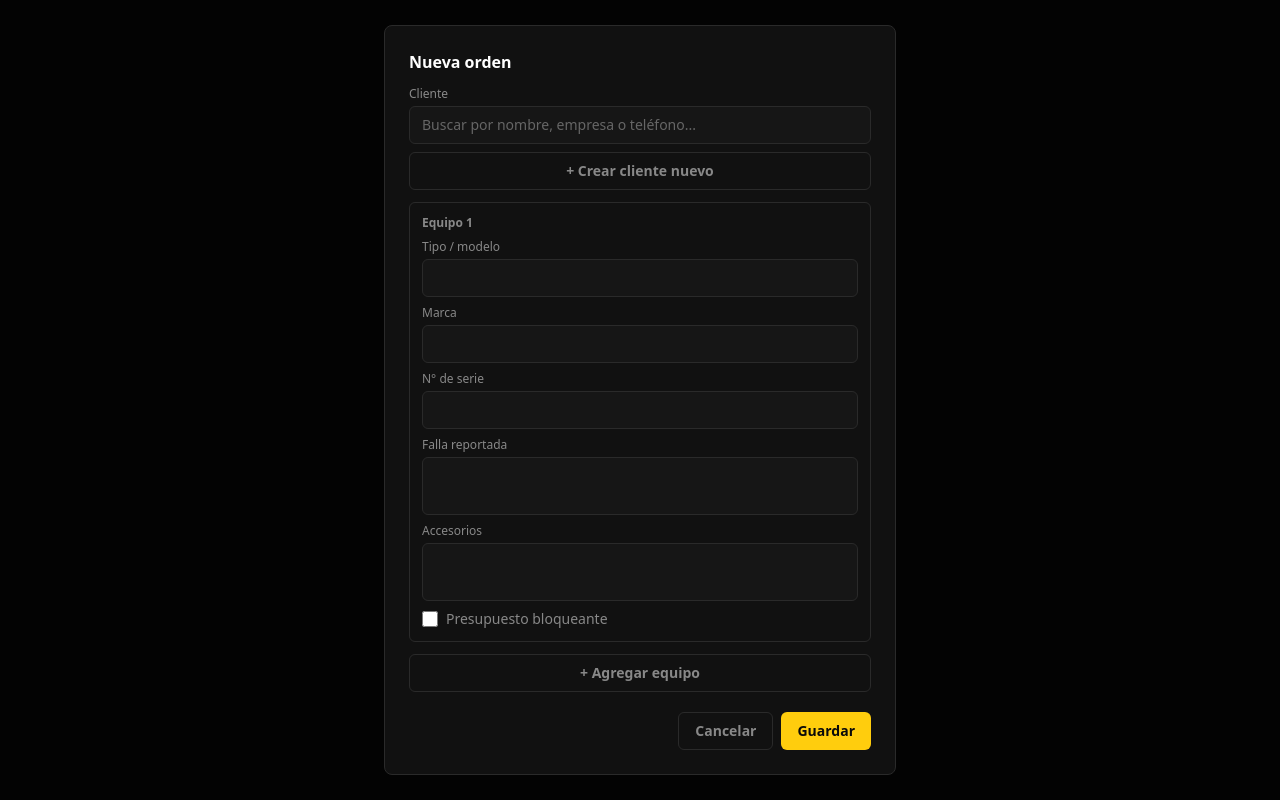
Scenario: OrderFormModal + ClientPicker + ClientFormModal (integración) › crear un cliente nuevo desde "Nueva orden" lo deja seleccionado sin error falso de validación
The width and height of the screenshot is (1280, 800).
Click the button "+ Crear cliente nuevo".
click(640, 171)  # box [409, 152, 871, 190]
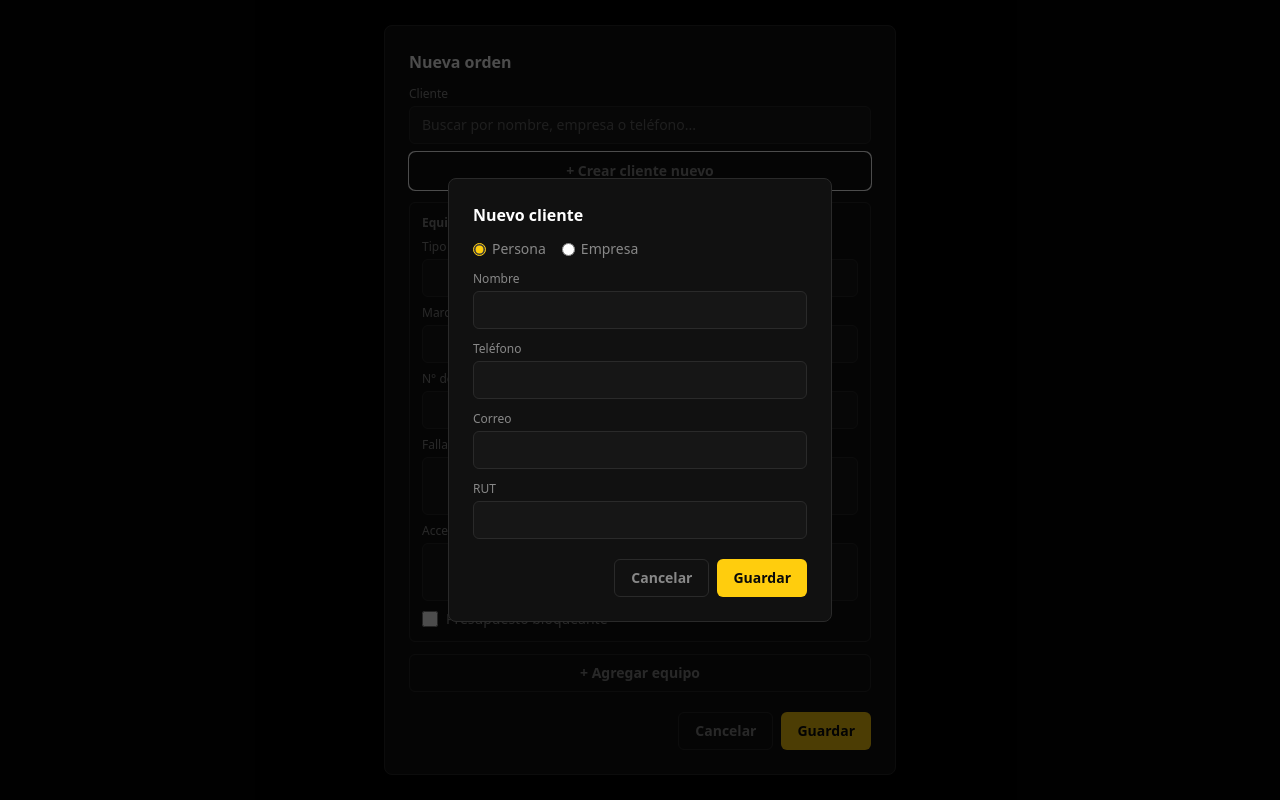
Type "Ana Soto" into the field labelled "Nombre".
click(640, 310); type("Ana Soto")  # box [473, 291, 807, 329]
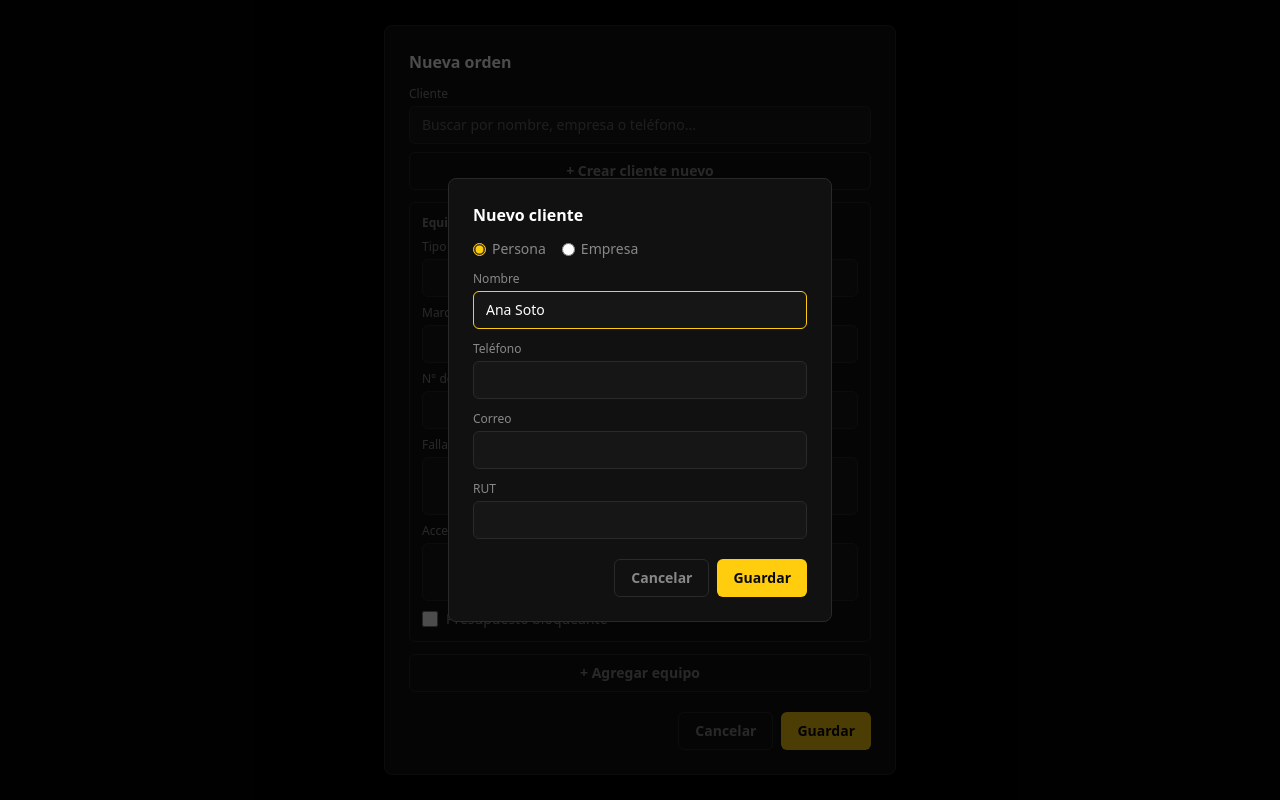
Type "+56911111111" into the field labelled "Teléfono".
click(640, 380); type("+56911111111")  # box [473, 361, 807, 399]
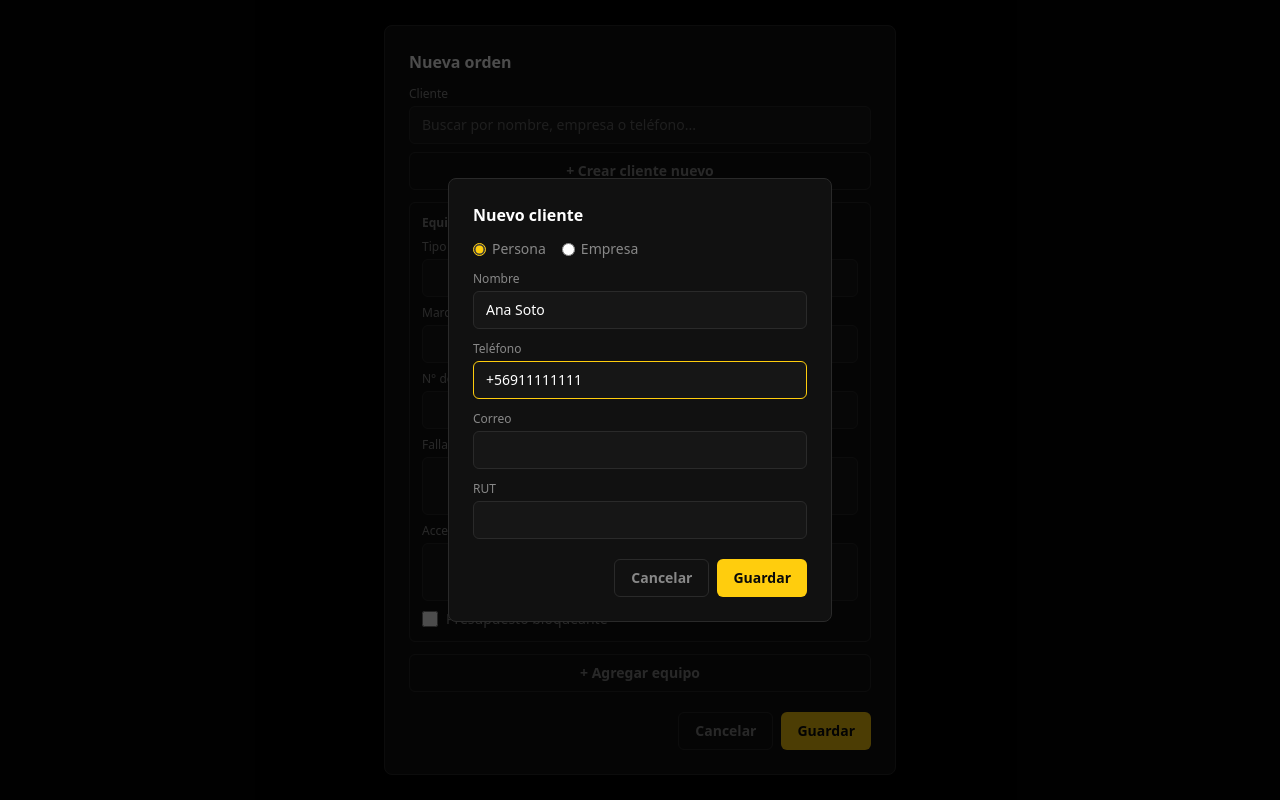
Click the button "Guardar".
click(762, 578)  # box [718, 559, 807, 597]
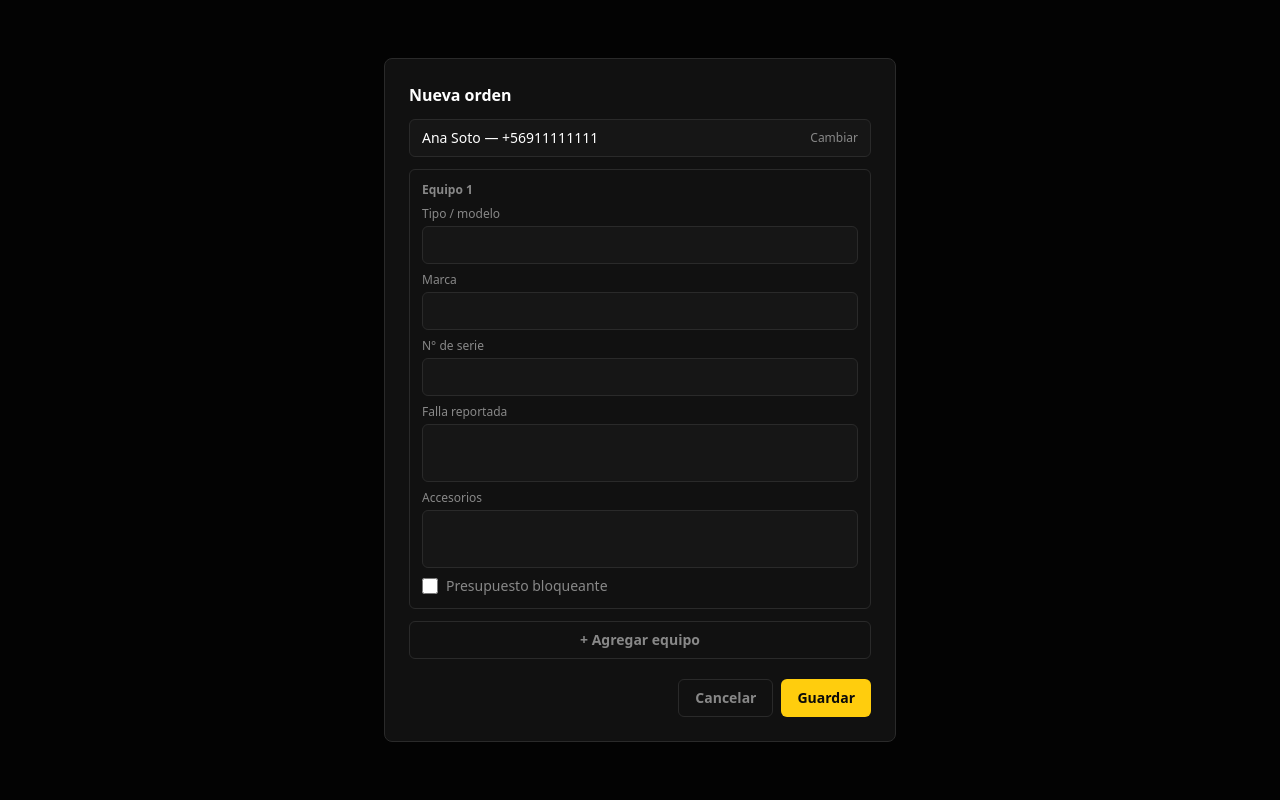
Expected: the text "Ana Soto — +56911111111" is shown, [422, 128, 598, 148]
